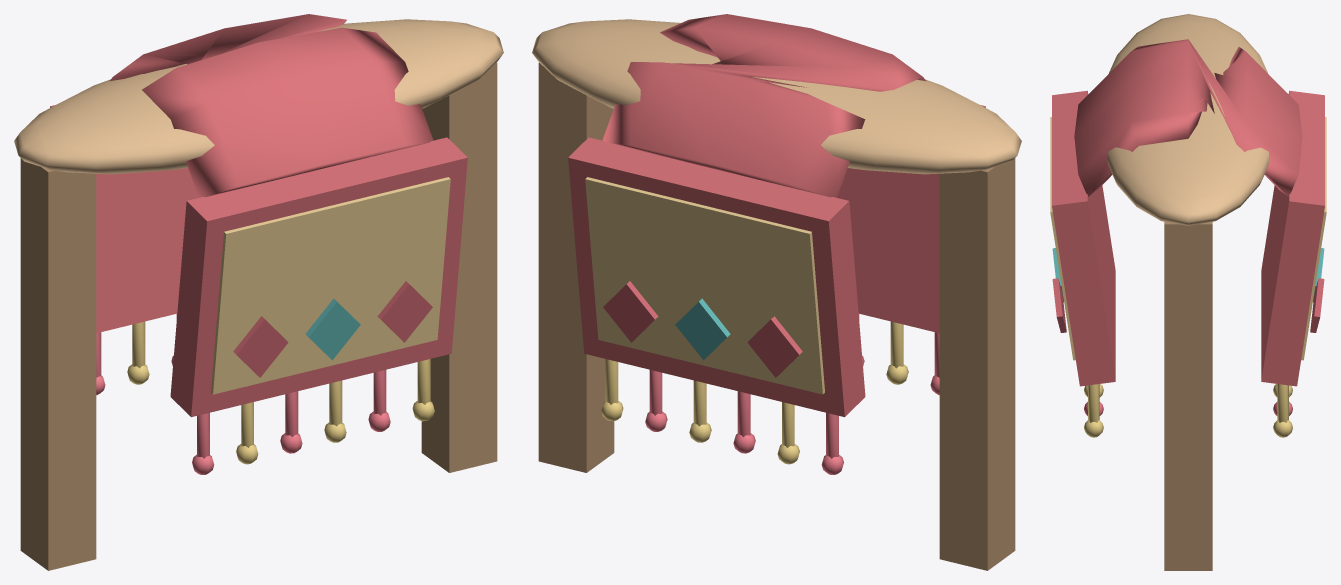
The model's file is qorzhyn.glb.
The picture shows the model from 3 angles, left to right: view 1: azimuth 30°, elevation 25°; view 2: azimuth 150°, elevation 25°; view 3: azimuth 270°, elevation 25°; orthographic projection. The views are drawn at different scales.
Parts seen in each view (by area): view 1: post (×2), pocket (×2), band, panel, beam, orn (×3), tassel (×3); view 2: post (×2), pocket (×2), band, panel, beam, orn (×3), tassel (×3); view 3: pocket (×2), band, post, beam, panel (×2), orn (×2), tassel (×2).
Boxes of the visible parts, x1,y1,x2,y2 form: post (×2): (20, 62, 497, 570); pocket (×2): (50, 105, 467, 417); band: (110, 14, 433, 197); panel: (211, 177, 450, 394); beam: (14, 19, 503, 174); orn (×3): (233, 281, 432, 377); tassel (×3): (132, 321, 342, 437); post (×2): (538, 62, 1015, 570); pocket (×2): (568, 105, 985, 417); band: (602, 14, 925, 197); panel: (585, 177, 824, 394); beam: (532, 19, 1021, 174); orn (×3): (603, 281, 802, 377); tassel (×3): (693, 321, 903, 437); pocket (×2): (1052, 90, 1324, 386); band: (1074, 39, 1302, 196); post: (1164, 221, 1212, 570); beam: (1107, 14, 1268, 225); panel (×2): (1050, 117, 1326, 360); orn (×2): (1052, 278, 1324, 332); tassel (×2): (1088, 384, 1288, 422).
Size of the model in its own units: 2.4 by 2.21 by 1.37.
